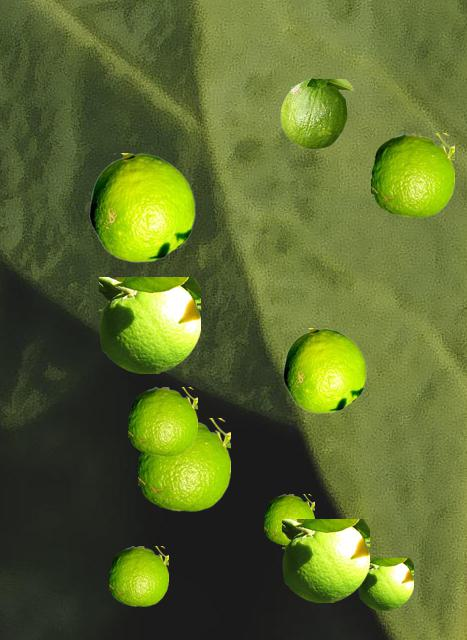dalandan: (89, 153, 194, 261), (99, 277, 199, 372), (138, 418, 229, 510), (282, 519, 368, 601), (283, 328, 365, 412), (371, 133, 453, 216), (280, 79, 352, 148), (128, 387, 196, 455), (109, 546, 167, 605), (358, 558, 412, 609), (264, 494, 313, 544)
